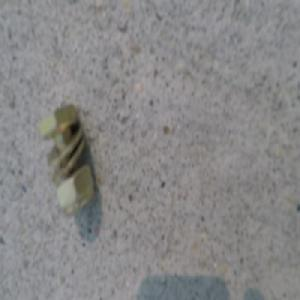BoltNutSet: (49, 108, 103, 218)
